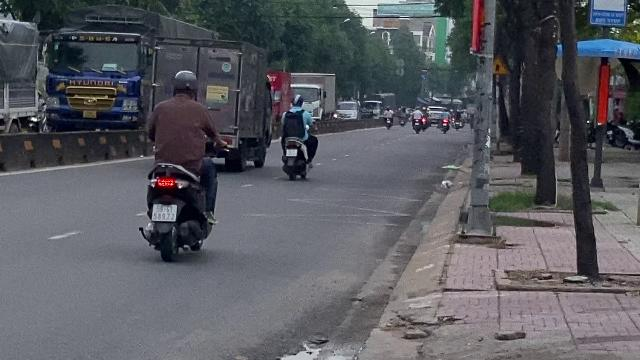helmet: (170, 70, 198, 99)
licenseplate: (152, 204, 176, 220)
motorcyclist: (138, 68, 222, 262)
